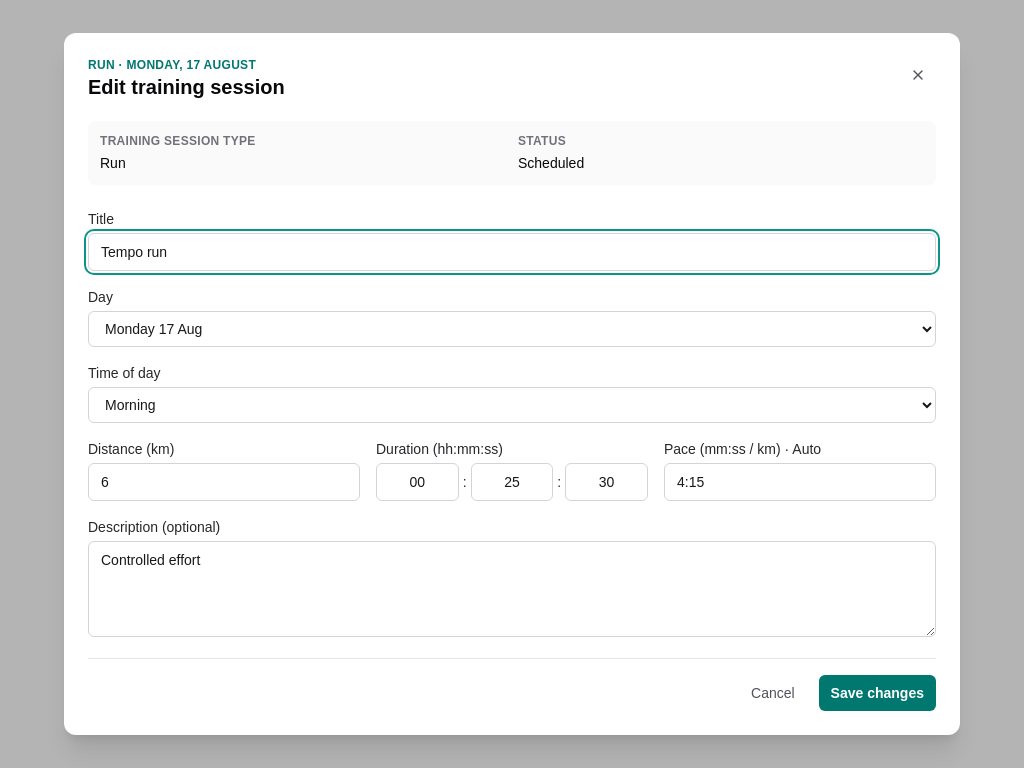
it: shows its submitting state
Click the button "Save changes". click: (877, 693)
box: [819,675,936,711]
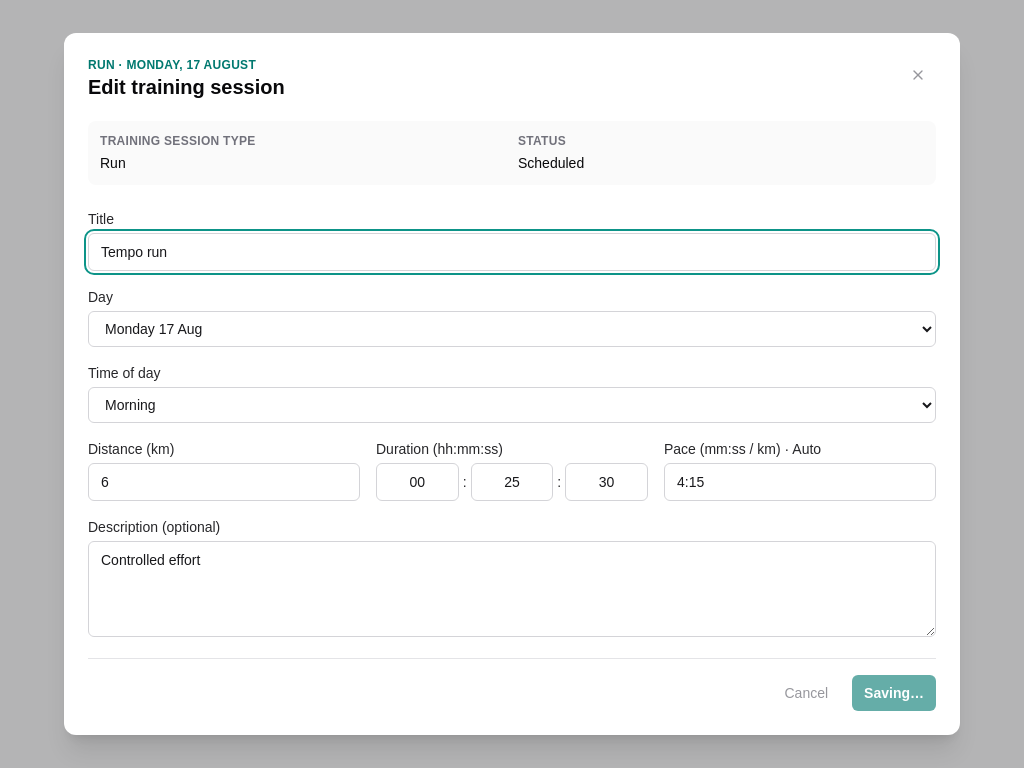
Expected: the button "Saving…" is disabled, [852,675,936,711]
